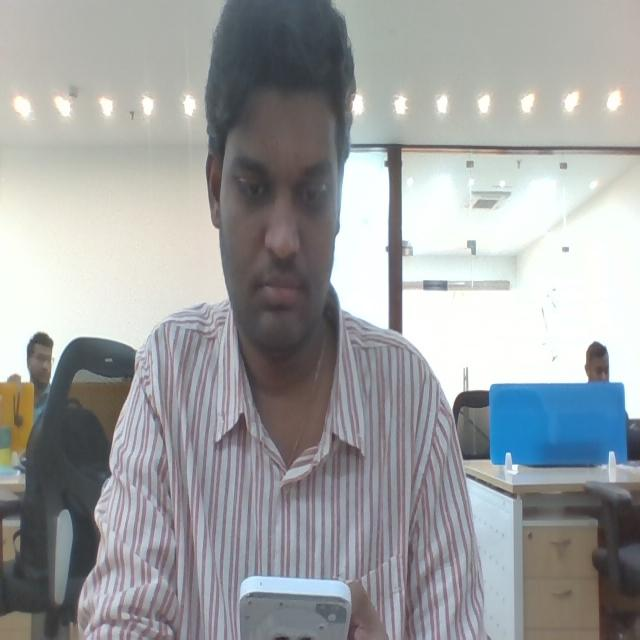phone: (236, 574, 352, 636)
